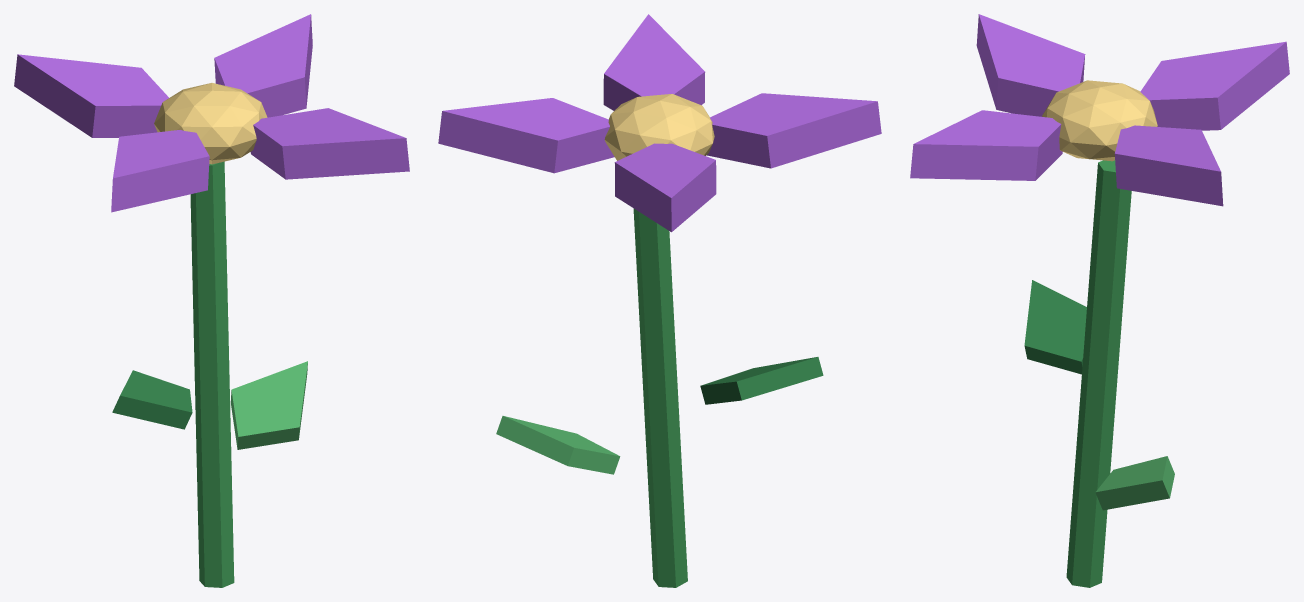
Rendered from MiniFlower_4Petal_Violet.glb.
The picture shows the model from 3 angles, left to right: view 1: azimuth 30°, elevation 25°; view 2: azimuth 150°, elevation 25°; view 3: azimuth 270°, elevation 25°; orthographic projection.
Visible parts, largest first — view 1: MiniFlower_4Petal_Violet Stem, MiniFlower_4Petal_Violet Petal 2, MiniFlower_4Petal_Violet Petal 4, MiniFlower_4Petal_Violet Petal 1, MiniFlower_4Petal_Violet Petal 3, MiniFlower_4Petal_Violet Center, MiniFlower_4Petal_Violet Leaf 1, MiniFlower_4Petal_Violet Leaf -1; view 2: MiniFlower_4Petal_Violet Stem, MiniFlower_4Petal_Violet Petal 3, MiniFlower_4Petal_Violet Petal 1, MiniFlower_4Petal_Violet Petal 2, MiniFlower_4Petal_Violet Petal 4, MiniFlower_4Petal_Violet Center, MiniFlower_4Petal_Violet Leaf 1, MiniFlower_4Petal_Violet Leaf -1; view 3: MiniFlower_4Petal_Violet Stem, MiniFlower_4Petal_Violet Petal 2, MiniFlower_4Petal_Violet Petal 4, MiniFlower_4Petal_Violet Petal 3, MiniFlower_4Petal_Violet Petal 1, MiniFlower_4Petal_Violet Center, MiniFlower_4Petal_Violet Leaf -1, MiniFlower_4Petal_Violet Leaf 1.
Part boxes in pixels (x1=…): MiniFlower_4Petal_Violet Stem: x1=190, y1=161, x2=234, y2=587; MiniFlower_4Petal_Violet Petal 2: x1=14, y1=54, x2=168, y2=137; MiniFlower_4Petal_Violet Petal 4: x1=250, y1=108, x2=409, y2=179; MiniFlower_4Petal_Violet Petal 1: x1=214, y1=14, x2=312, y2=117; MiniFlower_4Petal_Violet Petal 3: x1=111, y1=130, x2=209, y2=212; MiniFlower_4Petal_Violet Center: x1=154, y1=83, x2=267, y2=164; MiniFlower_4Petal_Violet Leaf 1: x1=230, y1=361, x2=307, y2=449; MiniFlower_4Petal_Violet Leaf -1: x1=112, y1=370, x2=192, y2=429; MiniFlower_4Petal_Violet Stem: x1=633, y1=208, x2=687, y2=587; MiniFlower_4Petal_Violet Petal 3: x1=707, y1=93, x2=881, y2=168; MiniFlower_4Petal_Violet Petal 1: x1=438, y1=98, x2=614, y2=173; MiniFlower_4Petal_Violet Petal 2: x1=614, y1=143, x2=716, y2=232; MiniFlower_4Petal_Violet Petal 4: x1=603, y1=14, x2=705, y2=110; MiniFlower_4Petal_Violet Center: x1=604, y1=94, x2=714, y2=160; MiniFlower_4Petal_Violet Leaf 1: x1=496, y1=416, x2=620, y2=474; MiniFlower_4Petal_Violet Leaf -1: x1=700, y1=357, x2=823, y2=404; MiniFlower_4Petal_Violet Stem: x1=1066, y1=160, x2=1131, y2=587; MiniFlower_4Petal_Violet Petal 2: x1=1140, y1=41, x2=1289, y2=130; MiniFlower_4Petal_Violet Petal 4: x1=910, y1=110, x2=1062, y2=180; MiniFlower_4Petal_Violet Petal 3: x1=976, y1=14, x2=1085, y2=116; MiniFlower_4Petal_Violet Petal 1: x1=1114, y1=125, x2=1223, y2=206; MiniFlower_4Petal_Violet Center: x1=1042, y1=80, x2=1157, y2=161; MiniFlower_4Petal_Violet Leaf -1: x1=1024, y1=280, x2=1086, y2=374; MiniFlower_4Petal_Violet Leaf 1: x1=1095, y1=456, x2=1174, y2=510.
Bounding box in the file's own units: 0.3762 × 0.5414 × 0.3762.
